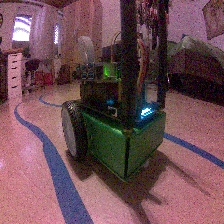rob: (60, 41, 168, 184)
